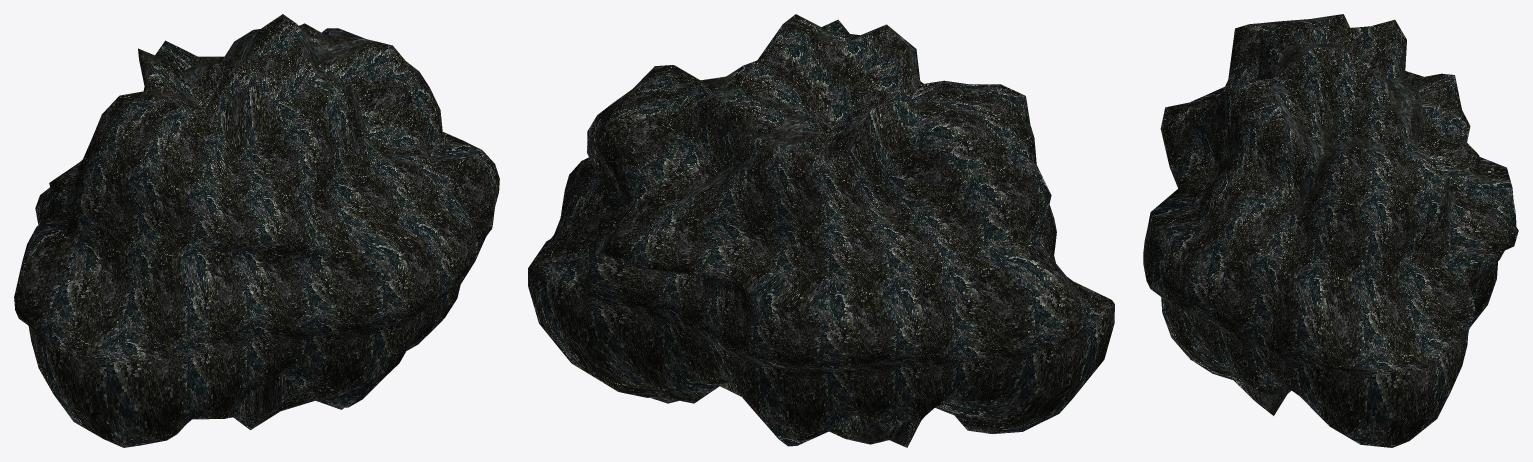
Rendered from bigrock.glb.
The picture shows the model from 3 angles, left to right: view 1: azimuth 30°, elevation 25°; view 2: azimuth 150°, elevation 25°; view 3: azimuth 270°, elevation 25°; orthographic projection. The views are drawn at different scales.
Parts seen in each view (by area): view 1: Cube; view 2: Cube; view 3: Cube.
Boxes of the visible parts, left/top/right/bottom form: Cube: left=14, top=14, right=499, bottom=447; Cube: left=528, top=14, right=1114, bottom=447; Cube: left=1143, top=14, right=1518, bottom=447.
Size of the model in its own units: 87.47 by 65.67 by 61.61.
1 material, 1 textured.
